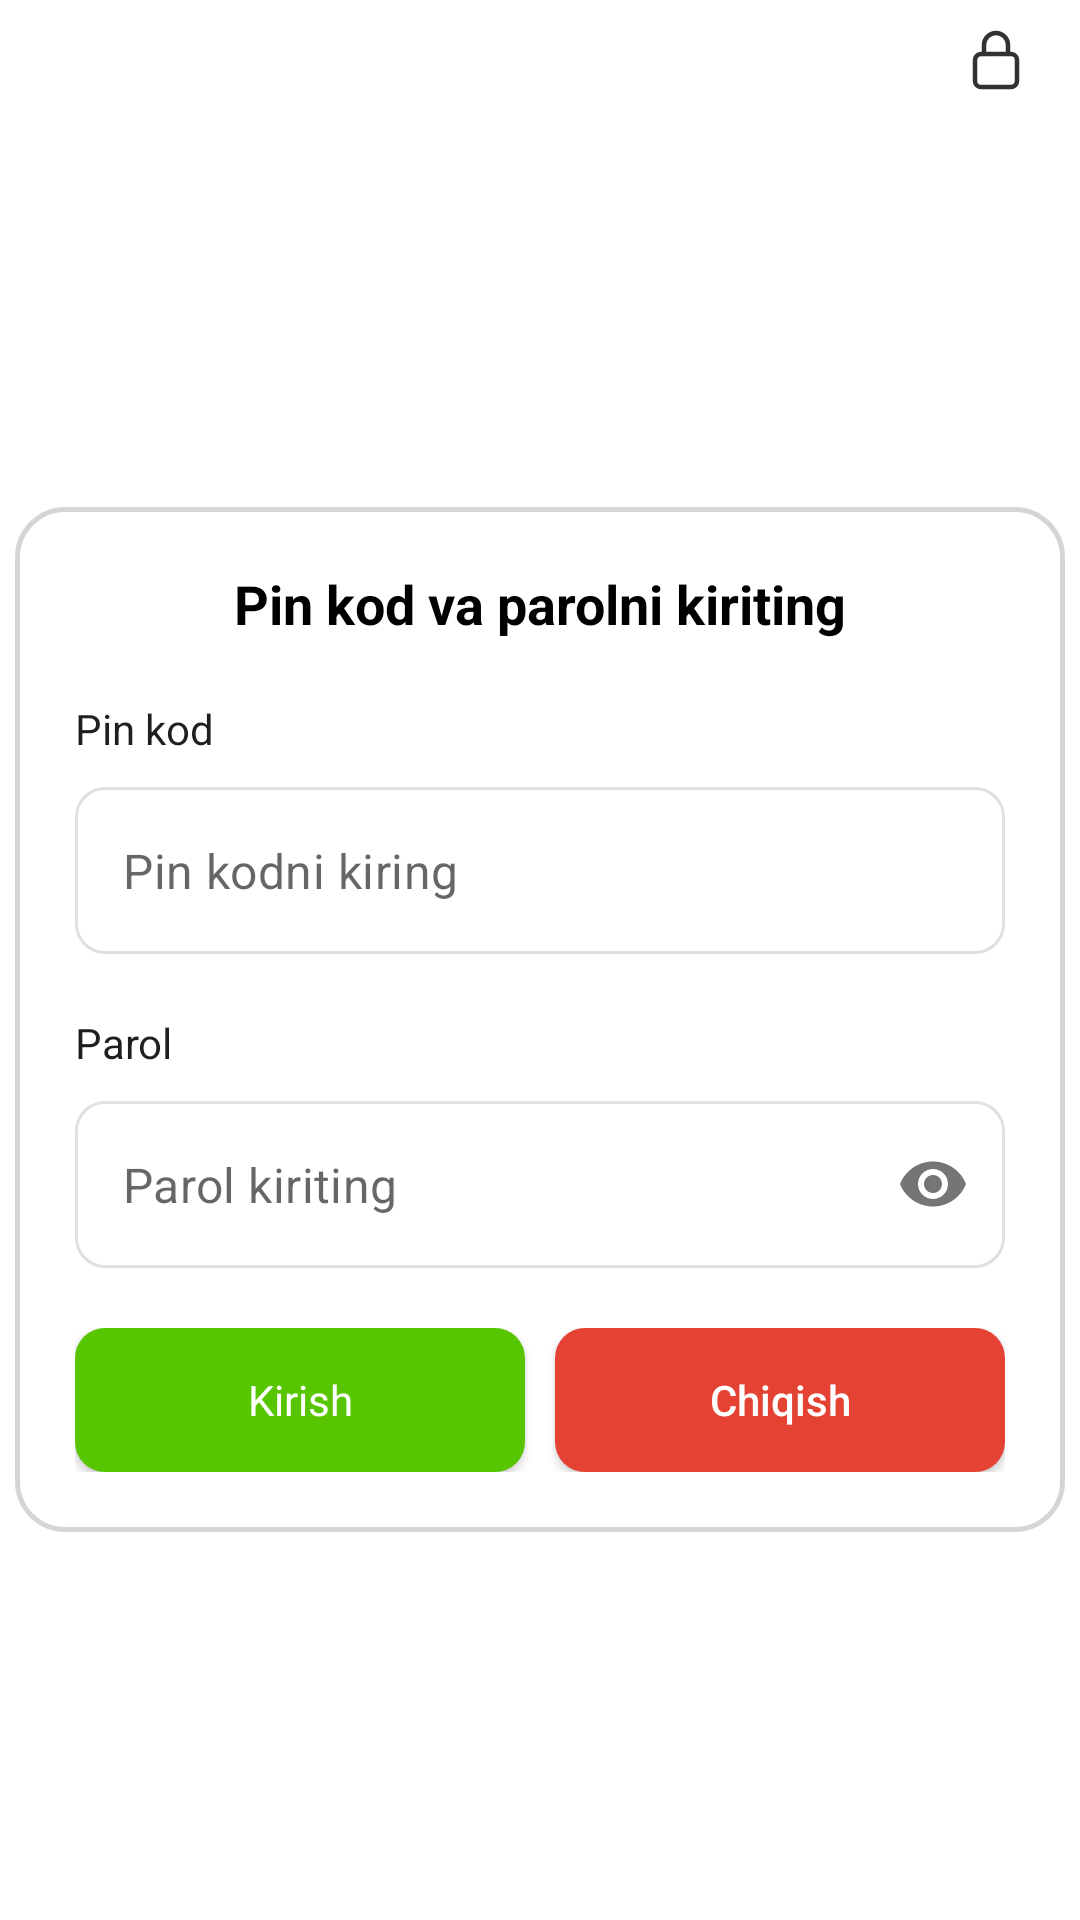

Icon click points for this 1080 x 1920 phone screenshot, format [x,y]:
lock: [996,60]
